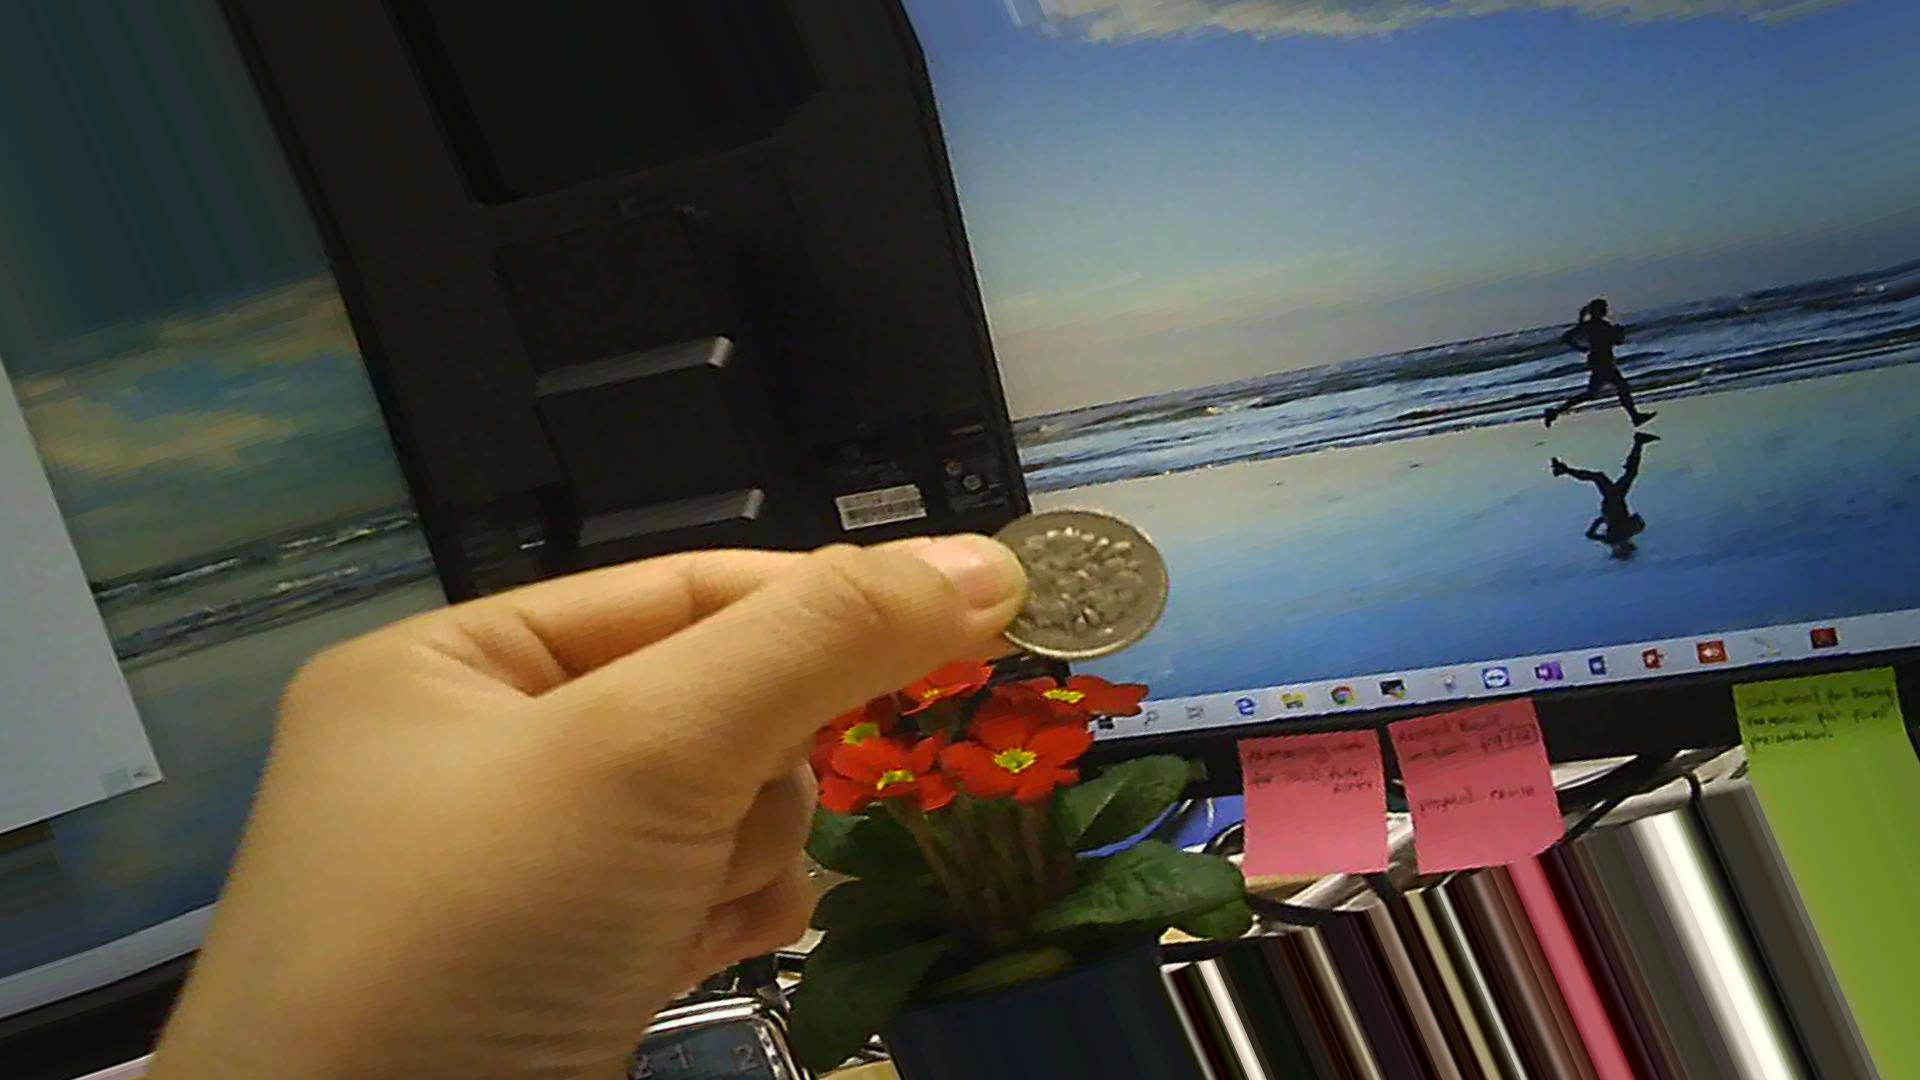100 Yen: (965, 495, 1179, 673)
